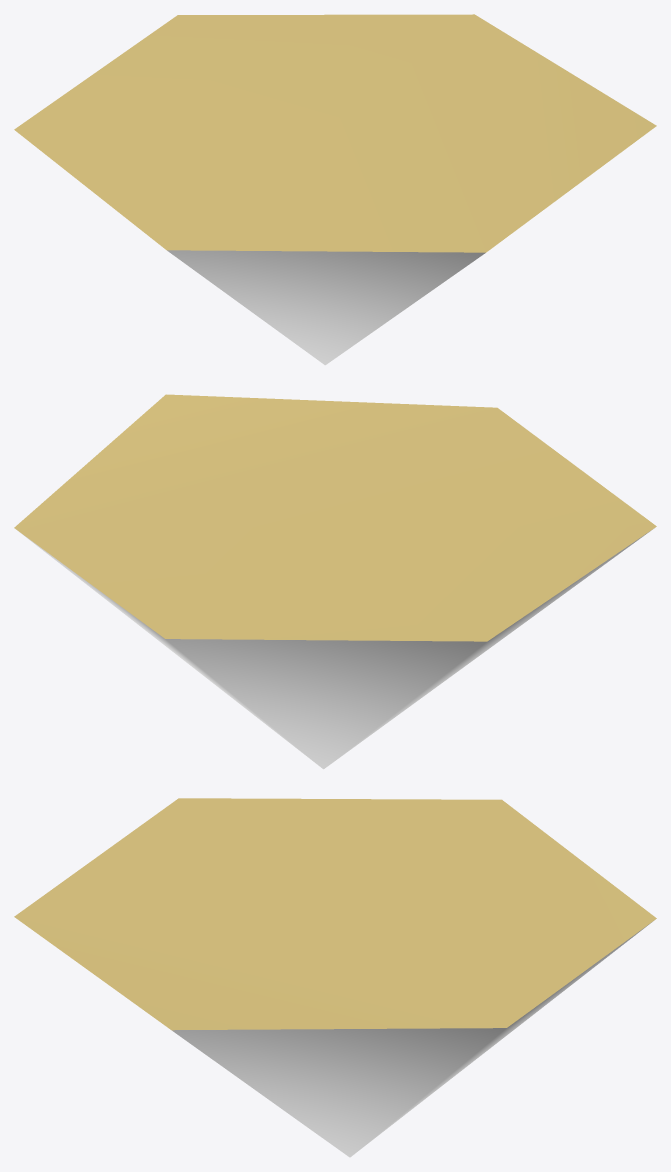
File: unfiredBowlFilled_low.glb
3 views of the same model, one above another, from view 1: azimuth 30°, elevation 25°; view 2: azimuth 150°, elevation 25°; view 3: azimuth 270°, elevation 25° (orthographic).
Visible parts, largest first — view 1: wheat; view 2: wheat; view 3: wheat.
Part boxes in pixels (x1,y1,x2,y2): wheat: [14, 14, 656, 365]; wheat: [14, 394, 656, 769]; wheat: [14, 798, 656, 1157].
Bounding box in the file's own units: 0.2553 × 0.1227 × 0.2885.
